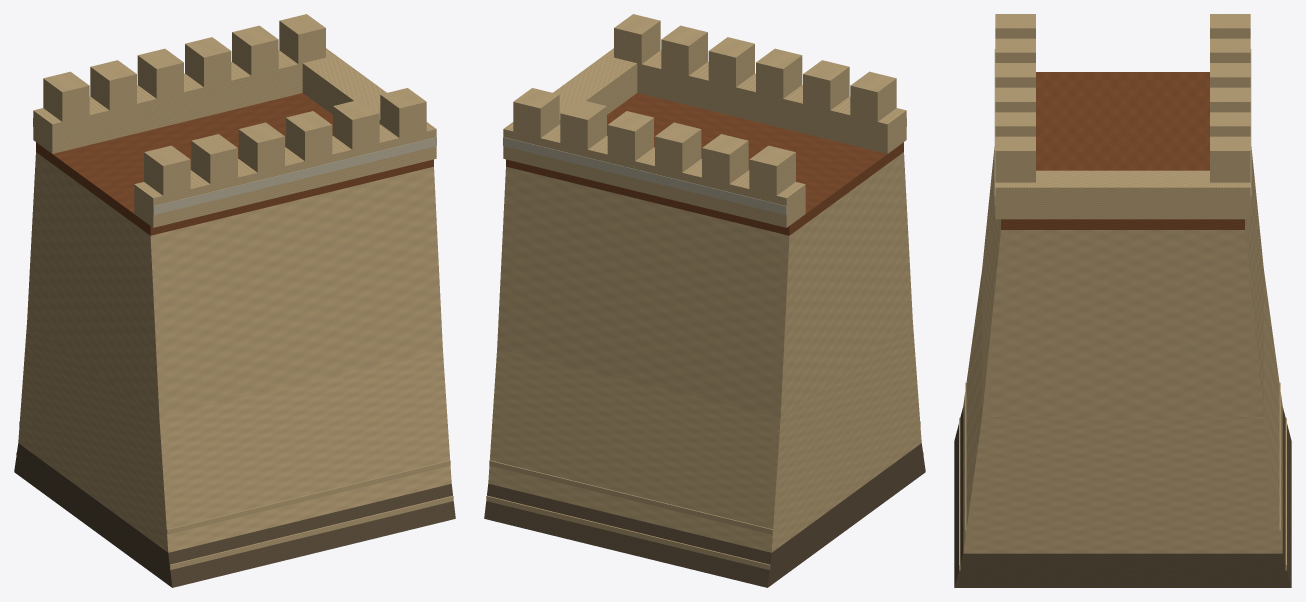
The model's file is Berber_Wall_Age3_end_6m.fbx.
The picture shows the model from 3 angles, left to right: view 1: azimuth 30°, elevation 25°; view 2: azimuth 150°, elevation 25°; view 3: azimuth 270°, elevation 25°; orthographic projection. The views are drawn at different scales.
Visible parts, largest first — view 1: end_6m_rammed_curtain_upper, end_6m_rammed_curtain_lower, end_6m_battered_stone_foot, end_6m_walk_deck, end_6m_parapet.001, end_6m_parapet, end_6m_terminal_parapet, end_6m_owner_painted_band, end_6m_merlon.002, end_6m_merlon.006, end_6m_merlon.004, end_6m_merlon.005 (+11 smaller); view 2: end_6m_rammed_curtain_upper, end_6m_rammed_curtain_lower, end_6m_battered_stone_foot, end_6m_walk_deck, end_6m_parapet, end_6m_parapet.001, end_6m_terminal_parapet, end_6m_owner_painted_band.001, end_6m_merlon, end_6m_merlon.008, end_6m_merlon.005, end_6m_merlon.004 (+10 smaller); view 3: end_6m_rammed_curtain_upper, end_6m_rammed_curtain_lower, end_6m_walk_deck, end_6m_battered_stone_foot, end_6m_terminal_parapet, end_6m_merlon.011, end_6m_merlon.005, end_6m_parapet, end_6m_parapet.001, end_6m_merlon.009, end_6m_merlon.003, end_6m_merlon (+7 smaller).
Boxes of the visible parts, box(x1,y1,x2,y2) form: end_6m_rammed_curtain_upper: box(27, 152, 442, 417); end_6m_rammed_curtain_lower: box(18, 321, 451, 552); end_6m_battered_stone_foot: box(14, 443, 455, 587); end_6m_walk_deck: box(36, 93, 433, 235); end_6m_parapet.001: box(33, 48, 335, 153); end_6m_parapet: box(134, 122, 436, 227); end_6m_terminal_parapet: box(302, 55, 386, 123); end_6m_owner_painted_band: box(153, 137, 436, 215); end_6m_merlon.002: box(238, 122, 284, 172); end_6m_merlon.006: box(43, 71, 89, 121); end_6m_merlon.004: box(333, 99, 379, 149); end_6m_merlon.005: box(380, 88, 426, 137); end_6m_rammed_curtain_upper: box(497, 152, 912, 417); end_6m_rammed_curtain_lower: box(488, 321, 921, 552); end_6m_battered_stone_foot: box(484, 443, 925, 587); end_6m_walk_deck: box(506, 93, 903, 235); end_6m_parapet: box(604, 48, 906, 153); end_6m_parapet.001: box(503, 122, 805, 227); end_6m_terminal_parapet: box(553, 55, 637, 123); end_6m_owner_painted_band.001: box(503, 137, 786, 215); end_6m_merlon: box(850, 71, 896, 121); end_6m_merlon.008: box(655, 122, 701, 172); end_6m_merlon.005: box(614, 14, 660, 64); end_6m_merlon.004: box(661, 25, 707, 75); end_6m_rammed_curtain_upper: box(982, 147, 1263, 416); end_6m_rammed_curtain_lower: box(963, 271, 1282, 553); end_6m_walk_deck: box(1001, 72, 1244, 229); end_6m_battered_stone_foot: box(954, 407, 1291, 587); end_6m_terminal_parapet: box(1036, 170, 1209, 219); end_6m_merlon.011: box(1210, 136, 1250, 182); end_6m_merlon.005: box(995, 136, 1035, 182); end_6m_parapet: box(995, 182, 1035, 219); end_6m_parapet.001: box(1210, 182, 1250, 219); end_6m_merlon.009: box(1210, 87, 1250, 112); end_6m_merlon.003: box(995, 87, 1035, 112); end_6m_merlon: box(995, 14, 1035, 38).
Size of the model in its own units: 600 by 820 by 580.
4 materials, 4 textured.
